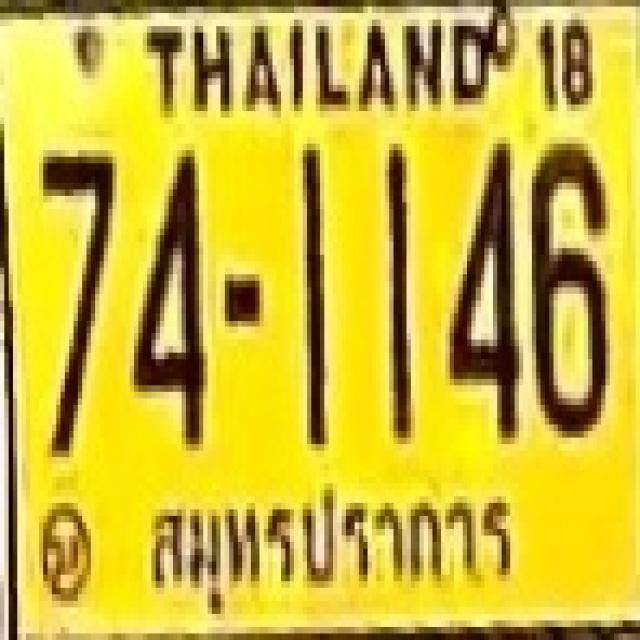1: (298, 140, 324, 441), (385, 144, 406, 438), (385, 140, 406, 402)
4: (130, 147, 203, 441), (446, 137, 514, 438)
6: (528, 137, 606, 431)
7: (39, 150, 112, 451), (39, 147, 112, 421), (39, 147, 112, 349)
SPK: (128, 469, 530, 625)
